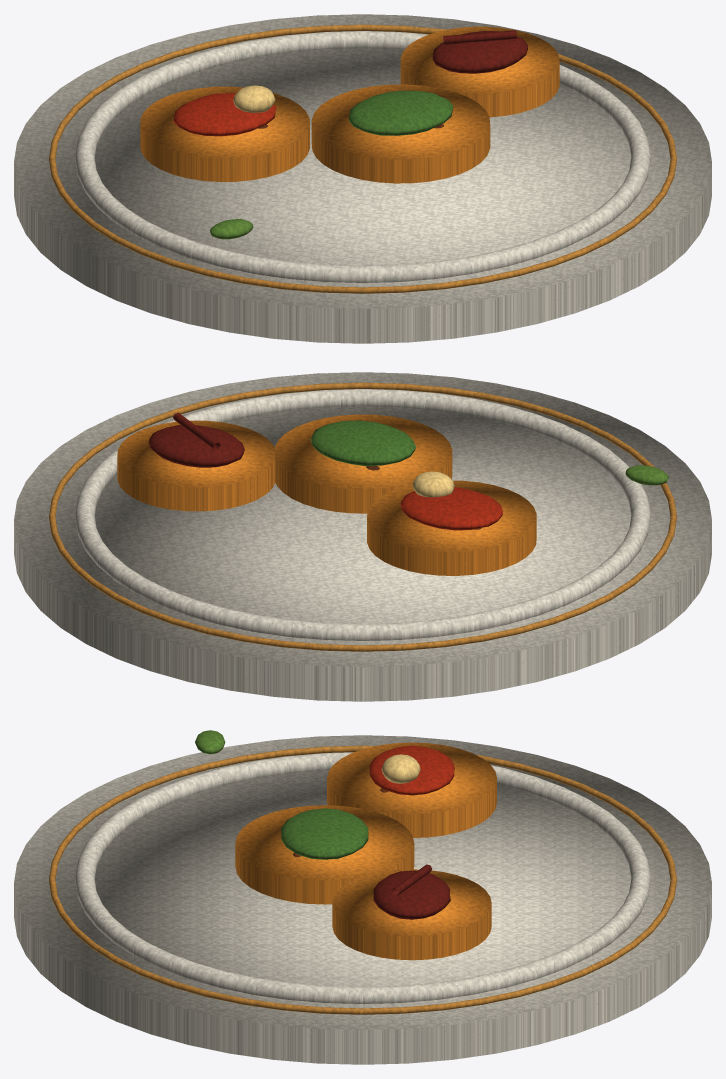
File: patacones-toppings.glb
The picture shows the model from 3 angles, top to bottom: view 1: azimuth 30°, elevation 25°; view 2: azimuth 150°, elevation 25°; view 3: azimuth 270°, elevation 25°; orthographic projection.
Parts seen in each view (by area): view 1: porcelain, plantain, gold, avocado, beef, hogao, cheeseCoast, leafLight; view 2: porcelain, plantain, gold, avocado, beef, hogao, cheeseCoast, leafLight; view 3: porcelain, plantain, gold, avocado, beef, hogao, cheeseCoast, leafLight.
Part boxes in pixels (x1,y1,x2,y2): porcelain: (14,14,711,343); plantain: (140,26,559,183); gold: (49,24,676,293); avocado: (348,90,453,135); beef: (432,30,527,73); hogao: (173,93,276,136); cheeseCoast: (233,85,275,112); leafLight: (210,219,253,239); porcelain: (14,372,711,701); plantain: (117,414,536,575); gold: (49,382,676,651); avocado: (311,420,415,466); beef: (148,412,244,467); hogao: (400,487,502,530); cheeseCoast: (412,471,454,497); leafLight: (625,465,668,485); porcelain: (14,735,711,1064); plantain: (235,742,496,960); gold: (49,745,676,1014); avocado: (281,808,368,859); beef: (373,864,450,919); hogao: (369,745,454,795); cheeseCoast: (381,754,420,783); leafLight: (195,730,225,754).
Size of the model in its own units: 0.64 by 0.1177 by 0.64.
9 materials, 9 textured.
